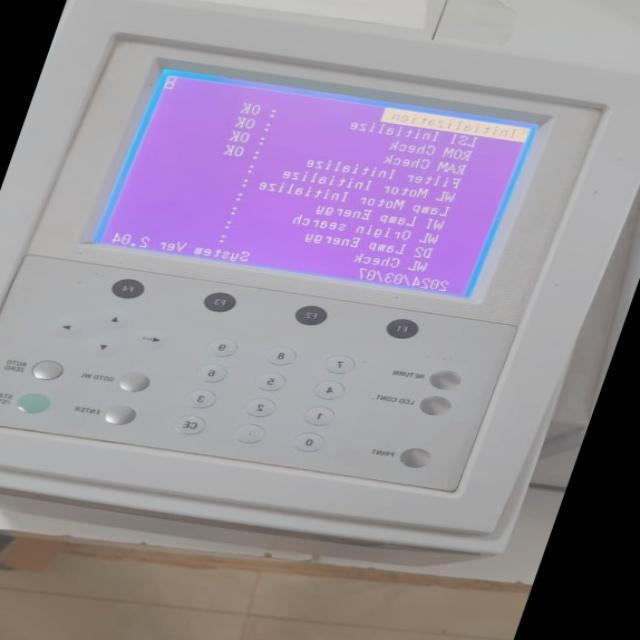Spectrophotometer: (0, 19, 640, 554)
